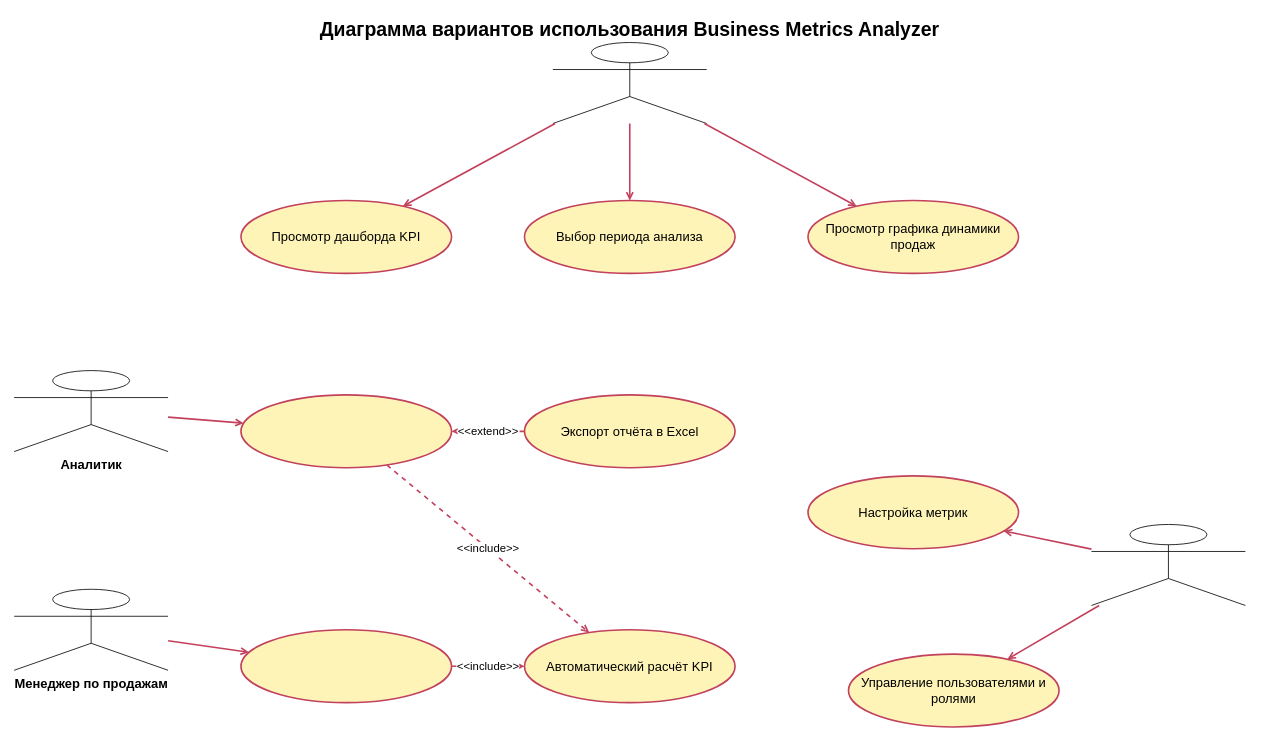
Some shapes in this 1264 by 741 pixel diagram are drawn without their labels. Each missing label, with the centre of its shape:
"Администратор системы" belongs at (x=1168, y=564).
"Загрузка данных о продажах" belongs at (x=346, y=666).
"Коммерческий директор" belongs at (x=629, y=83).
"Формирование отчёта" belongs at (x=346, y=431).
